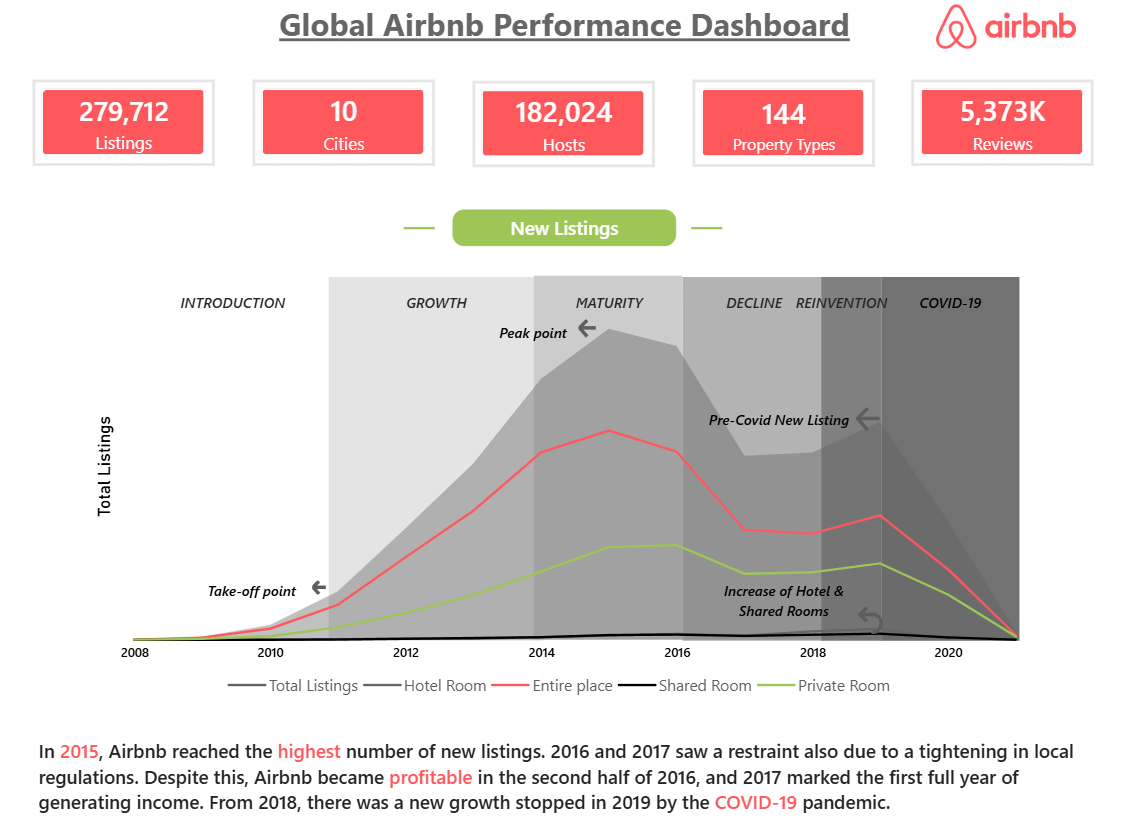

The dashboard page shown, as its layout file describes it:
{"tool":"powerbi","page":{"name":"Overview","canvas":[960,720],"ordinal":0},"visuals":[{"type":"textbox","box":[226.1,0,507.7,51.7],"z":0},{"type":"group","id":"g1","title":"Chart Discription","box":[112,237.4,755.3,310.9],"z":0,"group":"g4"},{"type":"shape","box":[112,238.6,181.5,310.1],"z":0,"group":"g1"},{"type":"group","id":"g2","title":"Title","box":[343.5,168.9,271.1,55.1],"z":1000},{"type":"lineChart","fields":{"Category":["Listings.host_since.Variation.Date Hierarchy.Year"],"Y":["CountNonNull(Listings.listing_id)","Listings.Hotel Room","Listings.Entire place","Listings.Shared Room","Listings.Private Room"]},"box":[75.8,238.5,806.2,366.3],"z":1000,"group":"g4"},{"type":"shape","box":[279.8,238.5,182,309.8],"z":1000,"group":"g1"},{"type":"group","id":"g3","title":"KPI's","box":[27.6,70.1,902.9,74.7],"z":2000},{"type":"cardVisual","fields":{"Data":["CountNonNull(Listings.listing_id)"]},"box":[27.6,70.2,155.2,73.4],"z":2000,"group":"g3"},{"type":"shape","box":[454.6,237.4,126.6,309.8],"z":2000,"group":"g1"},{"type":"textbox","box":[148.2,246.4,100.6,47.5],"z":2000,"group":"g4"},{"type":"cardVisual","fields":{"Data":["Count(Listings.city)"]},"box":[214.7,70.2,155.2,73.4],"z":3000,"group":"g3"},{"type":"group","id":"g4","title":"CHART","box":[75.8,237.4,806.2,367.5],"z":3000},{"type":"shape","box":[581.3,238.6,118.7,309.8],"z":3000,"group":"g1"},{"type":"textbox","box":[321.2,246.4,100.6,47.5],"z":3000,"group":"g4"},{"type":"cardVisual","fields":{"Data":["Count(Listings.host_id)"]},"box":[401.8,71.2,155.2,73.4],"z":4000,"group":"g3"},{"type":"shape","box":[699.2,238.5,50.9,309.8],"z":4000,"group":"g1"},{"type":"textbox","box":[468.1,246.4,100.6,47.5],"z":4000,"group":"g4"},{"type":"textbox","box":[161.7,490.7,105.2,45.2],"z":4000},{"type":"cardVisual","fields":{"Data":["Count(Listings.property_type)"]},"box":[588.9,70.2,155.2,74.4],"z":5000,"group":"g3"},{"type":"shape","box":[750.1,238.5,117.6,309.8],"z":5000,"group":"g1"},{"type":"textbox","box":[591.4,246.4,100.6,47.5],"z":5000,"group":"g4"},{"type":"actionButton","box":[261.2,493,36.2,20.4],"z":5000},{"type":"cardVisual","fields":{"Data":["Count(Reviews.review_id)"]},"box":[775.9,70.1,155.1,73.5],"z":6000,"group":"g3"},{"type":"textbox","box":[666,246.4,100.6,47.5],"z":6000,"group":"g4"},{"type":"actionButton","box":[488.4,270.2,58.8,23.7],"z":6000},{"type":"textbox","box":[758.7,246.4,100.6,47.5],"z":7000,"group":"g4"},{"type":"textbox","box":[401.4,271.4,105.2,45.2],"z":7000},{"type":"textbox","box":[384.9,180.4,190.7,31],"z":8000,"group":"g2"},{"type":"actionButton","box":[724.8,344.9,33.9,29.4],"z":8000},{"type":"shape","box":[343.5,168.9,26.4,55.1],"z":9000,"group":"g2"},{"type":"textbox","box":[587.9,344.9,149.2,45.2],"z":9000},{"type":"shape","box":[588.2,168.9,26.4,55.1],"z":10000,"group":"g2"},{"type":"actionButton","box":[724.8,513.3,67.8,32.8],"z":10000},{"type":"textbox","box":[601.5,490.7,132.3,45.2],"z":11000},{"type":"textbox","box":[27.1,625.3,903.4,80.3],"z":12000},{"type":"image","box":[789.2,6.8,133.4,37.3],"z":13000}]}

Visuals, with their boxes in screenshot pixels (x1, y1, x2, y2), scaled from the page's 960x720 canvas onto the 1128x835 screenshot:
textbox: 266, 0, 862, 60
"Chart Discription" group: 132, 275, 1019, 636
shape: 132, 277, 345, 636
"Title" group: 404, 196, 722, 260
lineChart - Listings.host_since.Variation.Date Hierarchy.Year x CountNonNull(Listings.listing_id): 89, 277, 1036, 701
shape: 329, 277, 543, 636
"KPI's" group: 32, 81, 1093, 168
cardVisual - CountNonNull(Listings.listing_id): 32, 81, 215, 167
shape: 534, 275, 683, 635
textbox: 174, 286, 292, 341
cardVisual - Count(Listings.city): 252, 81, 435, 167
"CHART" group: 89, 275, 1036, 702
shape: 683, 277, 822, 636
textbox: 377, 286, 496, 341
cardVisual - Count(Listings.host_id): 472, 83, 654, 168
shape: 822, 277, 881, 636
textbox: 550, 286, 668, 341
textbox: 190, 569, 314, 621
cardVisual - Count(Listings.property_type): 692, 81, 874, 168
shape: 881, 277, 1020, 636
textbox: 695, 286, 813, 341
actionButton: 307, 572, 349, 595
cardVisual - Count(Reviews.review_id): 912, 81, 1094, 167
textbox: 783, 286, 901, 341
actionButton: 574, 313, 643, 341
textbox: 891, 286, 1010, 341
textbox: 472, 315, 595, 367
textbox: 452, 209, 676, 245
actionButton: 852, 400, 891, 434
shape: 404, 196, 435, 260
textbox: 691, 400, 866, 452
shape: 691, 196, 722, 260
actionButton: 852, 595, 931, 633
textbox: 707, 569, 862, 621
textbox: 32, 725, 1093, 818
image: 927, 8, 1084, 51
